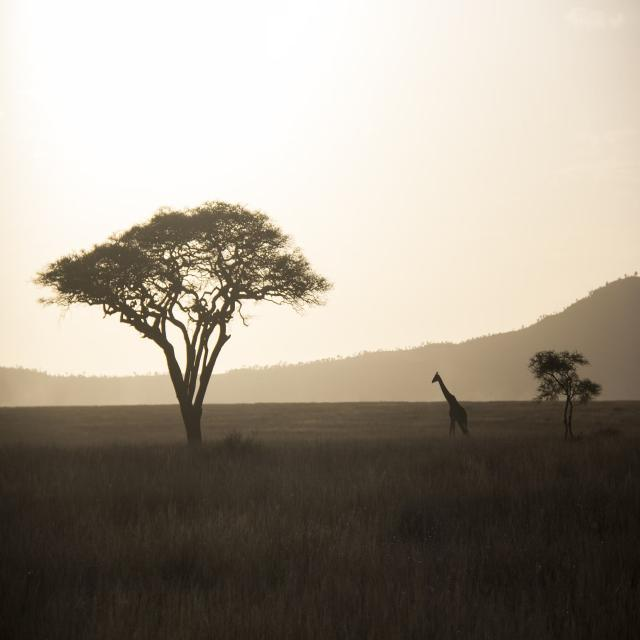Acacia: (65, 197, 314, 400), (530, 349, 604, 432)
